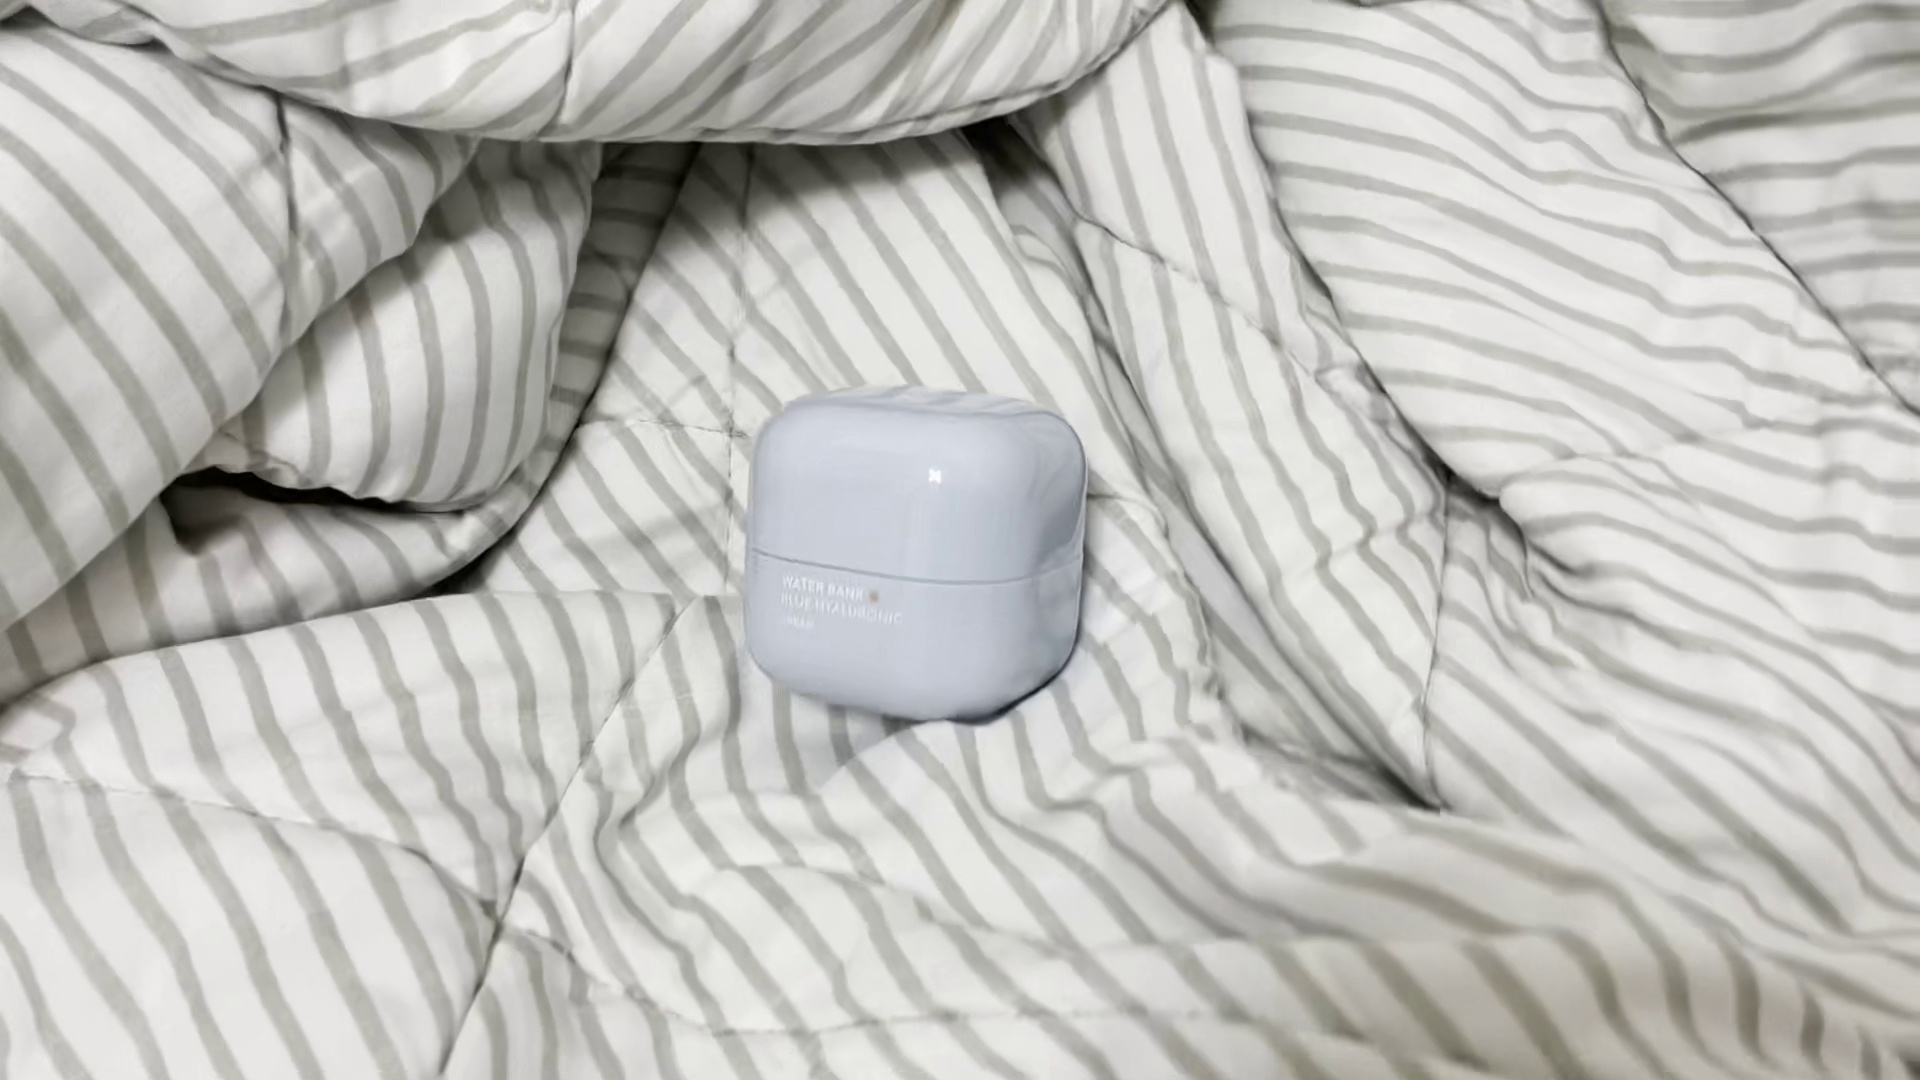cream: (746, 388, 1087, 719)
